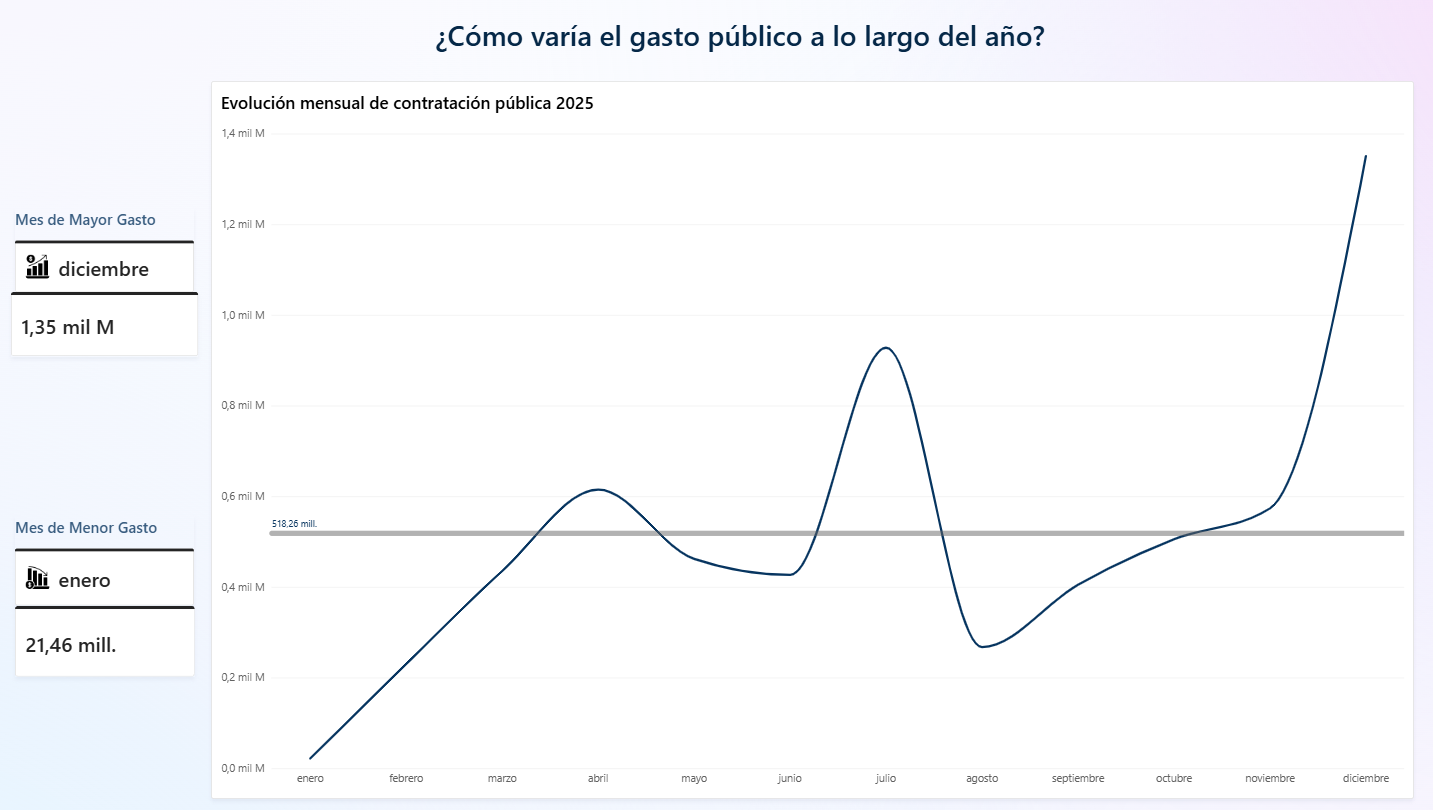

The page's visual inventory and layout, read from the dashboard file:
{"tool":"powerbi","page":{"name":"Evolución Temporal","canvas":[1920,1080],"ordinal":1},"visuals":[{"type":"lineChart","title":"Evolución mensual de contratación pública 2025","fields":{"Category":["resumen_mensual_por_provincia.mes"],"Y":["Sum(resumen_mensual_por_provincia.monto_total)"]},"box":[287.8,110.7,1600.2,955.1],"z":0},{"type":"textbox","box":[562.6,23.9,856.6,67.8],"z":1000},{"type":"cardVisual","title":"Mes de Mayor Gasto","fields":{"Data":["contratacion_2025_completo.Mes Maximo"]},"box":[26.6,278.9,238.4,112.2],"z":2000},{"type":"cardVisual","title":"Mes de Menor Gasto","fields":{"Data":["contratacion_2025_completo.Mes Minimo"]},"box":[26.6,689.2,238.4,119.2],"z":3000},{"type":"cardVisual","fields":{"Data":["contratacion_2025_completo.Monto Mes Maximo"]},"box":[20.7,391.1,249.4,85.6],"z":3001},{"type":"cardVisual","fields":{"Data":["contratacion_2025_completo.Monto Mes Minimo"]},"box":[26.6,808.7,239.1,94.5],"z":3002}]}

Visuals, with their boxes in screenshot pixels (x1, y1, x2, y2), scaled from the page's 1920x1080 canvas onto the 1433x810 screenshot:
"Evolución mensual de contratación pública 2025" lineChart: <box>215,83,1409,799</box>
textbox: <box>420,18,1059,69</box>
"Mes de Mayor Gasto" cardVisual: <box>20,209,198,293</box>
"Mes de Menor Gasto" cardVisual: <box>20,517,198,606</box>
cardVisual - contratacion_2025_completo.Monto Mes Maximo: <box>15,293,202,358</box>
cardVisual - contratacion_2025_completo.Monto Mes Minimo: <box>20,607,198,677</box>
